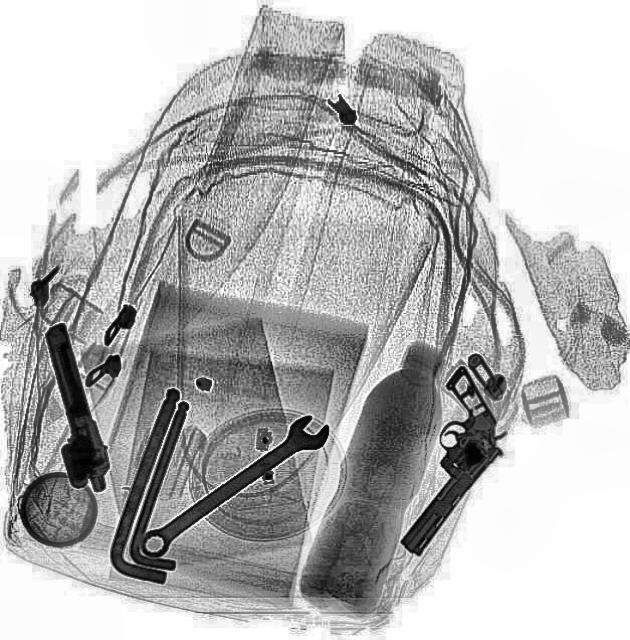Gun: (345, 366, 532, 558), (24, 320, 116, 498)
Wrench: (130, 408, 336, 566)
